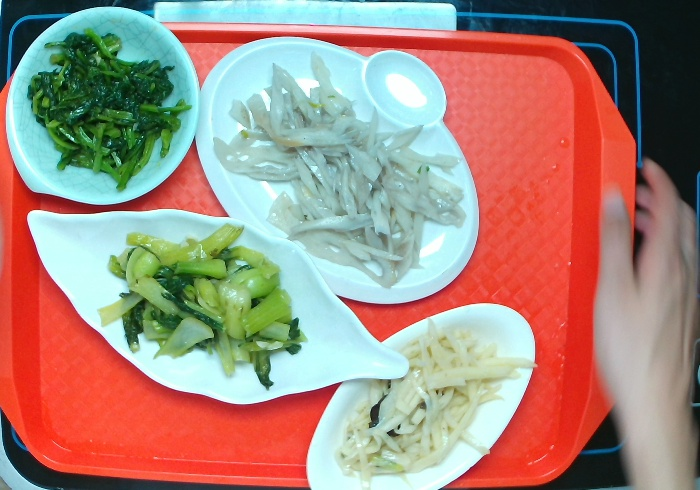RJxy-Bai_Se_Tuo_Yuan: (303, 300, 538, 490)
RJxy-Shu_Ye_Pan: (22, 207, 413, 410)
RJxy-Xiao_Jiao_Yuan_Wan: (3, 2, 203, 210)
RJxy-Zhan_Liao_Pan: (191, 33, 483, 310)
